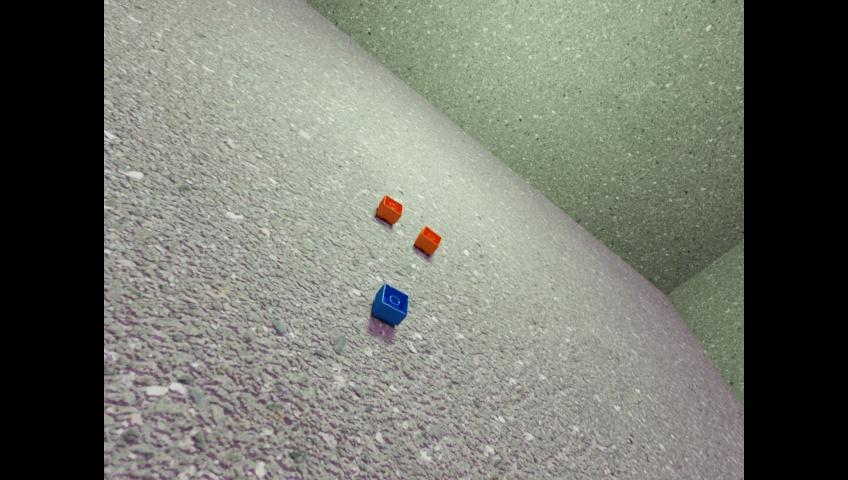2x2_blue: (372, 282, 408, 325)
2x2_orange: (414, 225, 441, 254), (377, 194, 402, 224)
